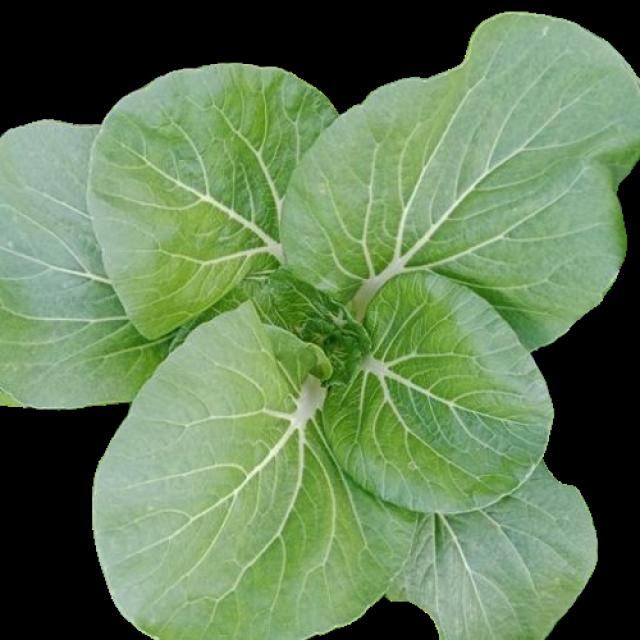healthy: (1, 9, 640, 640)
mature: (1, 9, 640, 640)
